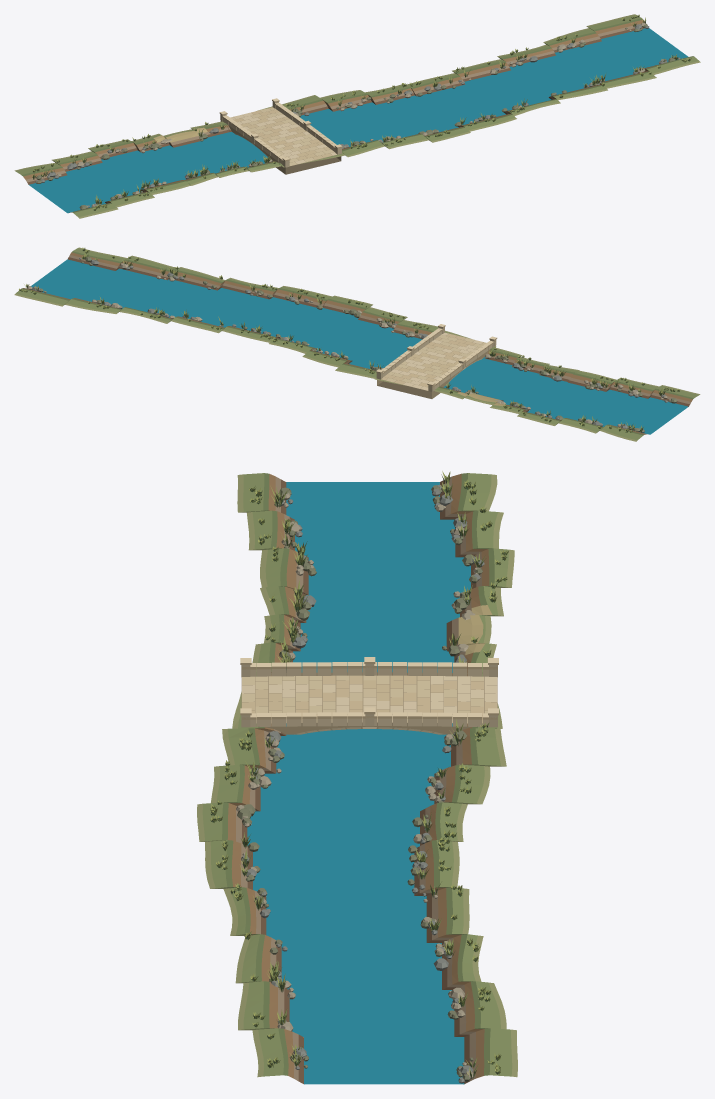
File: south-river.glb
3 views of the same model, one above another, from view 1: azimuth 30°, elevation 25°; view 2: azimuth 150°, elevation 25°; view 3: azimuth 270°, elevation 25° (orthographic). The views are drawn at different scales.
Visible parts, largest first — view 1: RiverWater, Northern meadow and exposed soil, Southern meadow and exposed soil, Limestone span and paved deck, North shingle and boulders, Low parapets and weathered copings, South sedges and meadow grass, North sedges and meadow grass, South shingle and boulders; view 2: RiverWater, Southern meadow and exposed soil, Northern meadow and exposed soil, Limestone span and paved deck, South shingle and boulders, Low parapets and weathered copings, South sedges and meadow grass, North shingle and boulders, North sedges and meadow grass; view 3: RiverWater, Northern meadow and exposed soil, Southern meadow and exposed soil, Limestone span and paved deck, Low parapets and weathered copings, North shingle and boulders, South sedges and meadow grass, South shingle and boulders, North sedges and meadow grass, Segmental arch and dressed voussoirs.
Boxes of the visible parts, bbox=[...] form: RiverWater: bbox=[29, 28, 688, 213]; Northern meadow and exposed soil: bbox=[14, 14, 644, 184]; Southern meadow and exposed soil: bbox=[69, 56, 700, 218]; Limestone span and paved deck: bbox=[230, 107, 337, 173]; North shingle and boulders: bbox=[35, 22, 649, 183]; Low parapets and weathered copings: bbox=[219, 98, 342, 167]; South sedges and meadow grass: bbox=[93, 54, 691, 210]; North sedges and meadow grass: bbox=[31, 14, 645, 179]; South shingle and boulders: bbox=[79, 57, 680, 209]; RiverWater: bbox=[31, 259, 688, 434]; Southern meadow and exposed soil: bbox=[67, 247, 700, 406]; Northern meadow and exposed soil: bbox=[14, 288, 647, 441]; Limestone span and paved deck: bbox=[381, 332, 486, 398]; South shingle and boulders: bbox=[79, 256, 677, 403]; Low parapets and weathered copings: bbox=[376, 324, 497, 391]; South sedges and meadow grass: bbox=[82, 247, 679, 395]; North shingle and boulders: bbox=[27, 286, 644, 432]; North sedges and meadow grass: bbox=[19, 284, 643, 432]; RiverWater: bbox=[247, 482, 470, 1084]; Northern meadow and exposed soil: bbox=[414, 473, 517, 1084]; Southern meadow and exposed soil: bbox=[197, 473, 308, 1083]; Limestone span and paved deck: bbox=[241, 675, 497, 726]; Low parapets and weathered copings: bbox=[240, 657, 498, 727]; North shingle and boulders: bbox=[407, 483, 484, 1083]; South sedges and meadow grass: bbox=[210, 486, 308, 1067]; South shingle and boulders: bbox=[236, 487, 316, 1069]; North sedges and meadow grass: bbox=[415, 471, 508, 1078]; Segmental arch and dressed voussoirs: bbox=[265, 672, 488, 734].
Bounding box in the file's own units: 64.07 × 1.51 × 14.42.
